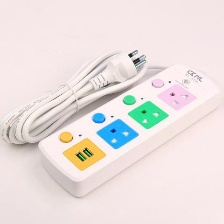three_eye_plug: (35, 59, 224, 199)
